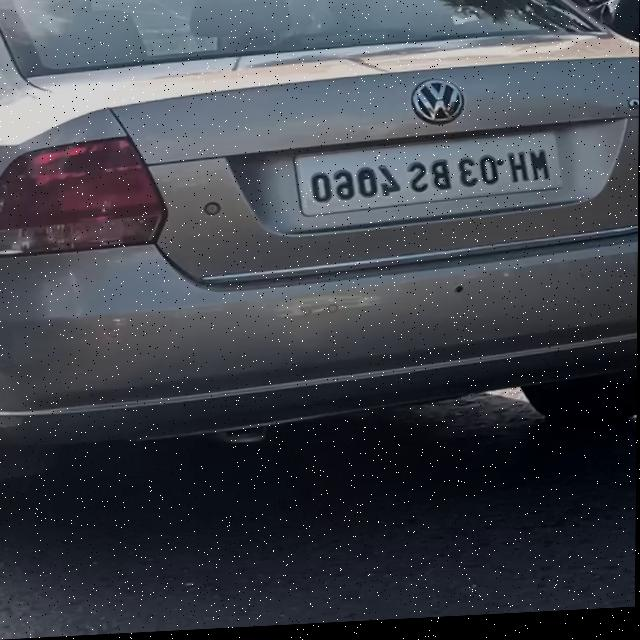plate: (286, 133, 565, 226)
